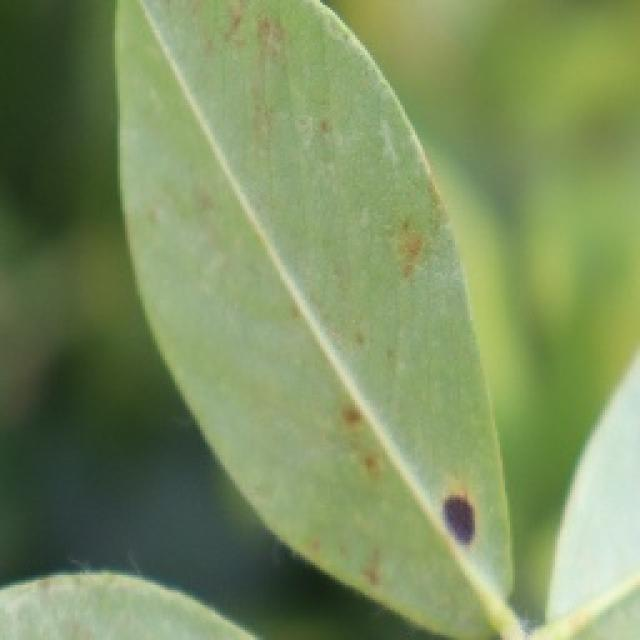Yellowish: (408, 475, 496, 570)
